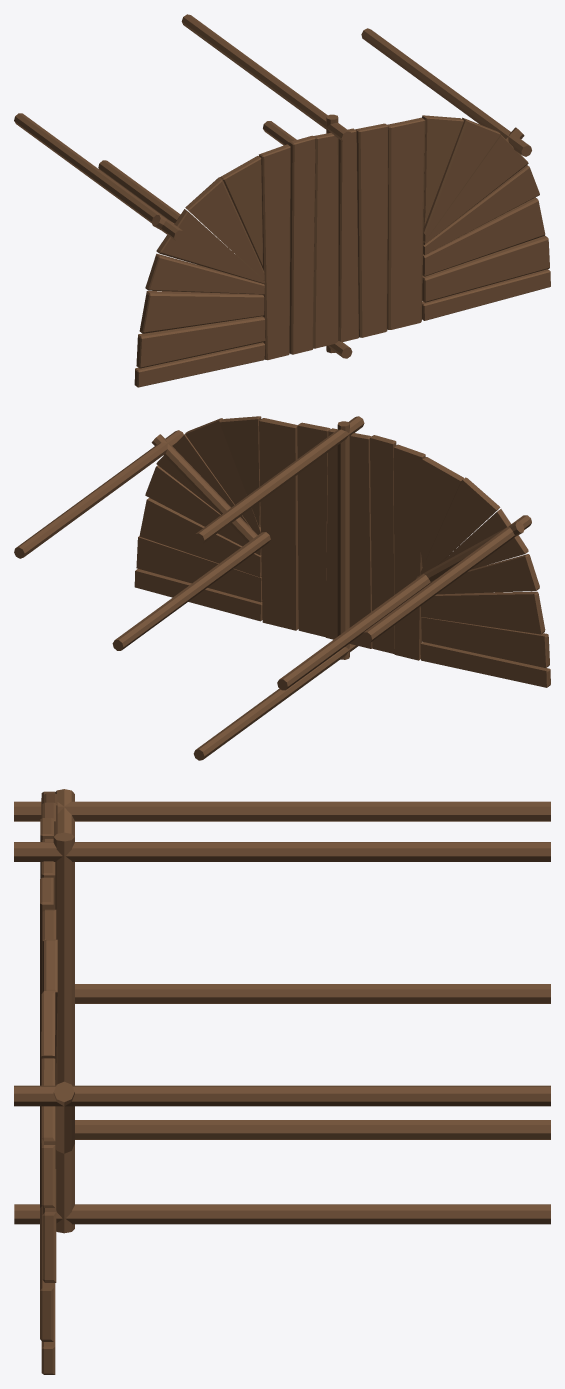
The model's file is Dock_03b_Platform.fbx.
3 views of the same model, one above another, from view 1: azimuth 30°, elevation 25°; view 2: azimuth 150°, elevation 25°; view 3: azimuth 270°, elevation 25° (orthographic). The views are drawn at different scales.
Visible parts, largest first — view 1: ponton_3.plateforme.001; view 2: ponton_3.plateforme.001; view 3: ponton_3.plateforme.001.
Part boxes in pixels (box(x1,y1,x2,y2)): ponton_3.plateforme.001: box(14, 14, 550, 387); ponton_3.plateforme.001: box(14, 416, 550, 760); ponton_3.plateforme.001: box(14, 789, 550, 1374).
Bounding box in the file's own units: 415 × 224 × 278.
